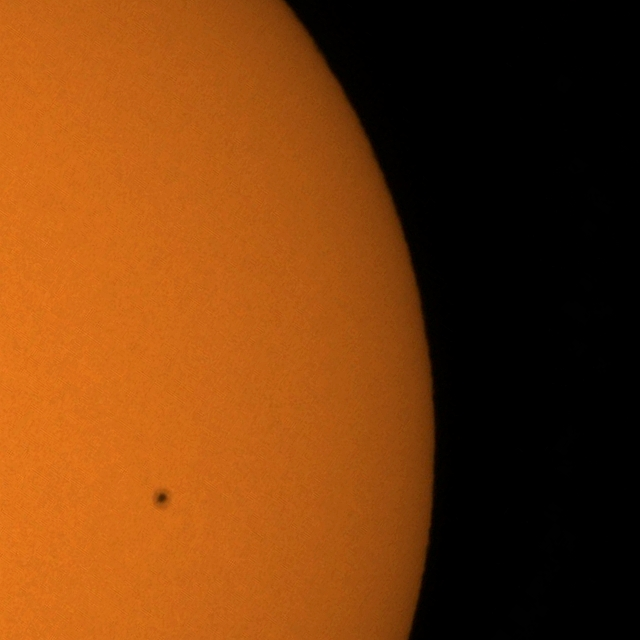sunspot: (152, 486, 173, 512)
